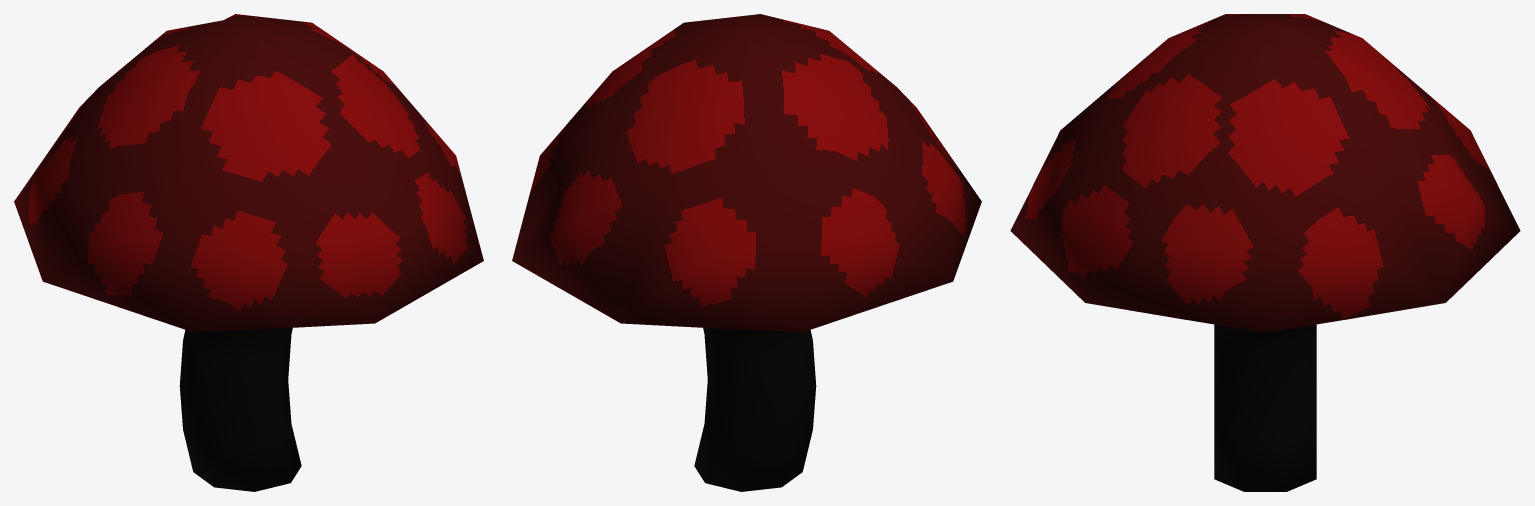
Rendered from mushroom.glb.
3 views of the same model, side by side, from view 1: azimuth 30°, elevation 25°; view 2: azimuth 150°, elevation 25°; view 3: azimuth 270°, elevation 25° (orthographic).
Visible parts, largest first — view 1: Cylinder; view 2: Cylinder; view 3: Cylinder.
Part boxes in pixels (x1=…): Cylinder: x1=14, y1=14, x2=483, y2=491; Cylinder: x1=512, y1=14, x2=981, y2=491; Cylinder: x1=1010, y1=14, x2=1520, y2=491.
Size of the model in its own units: 3.98 by 4.05 by 4.21.
Materials: 1 (1 with a texture image).
